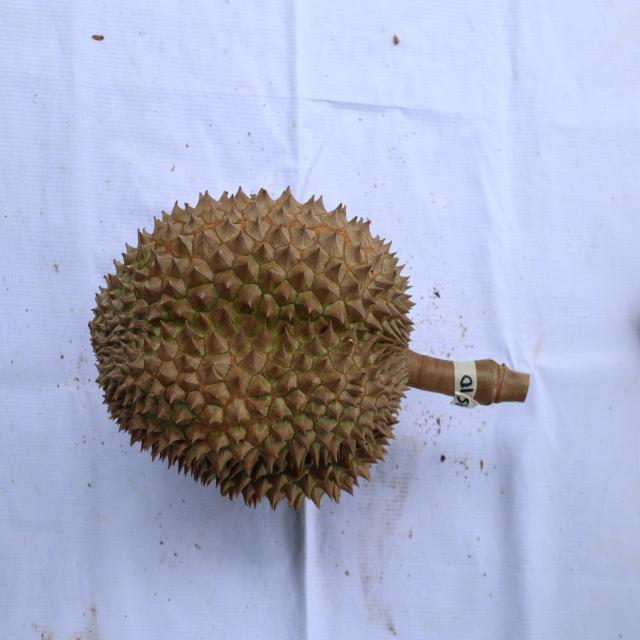mature: (87, 184, 415, 506)
